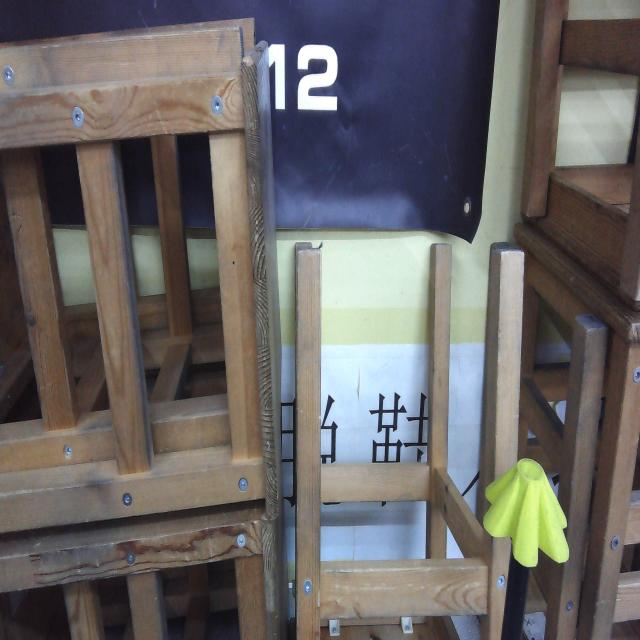Yellow-Stake-Head: (482, 458, 570, 567)
